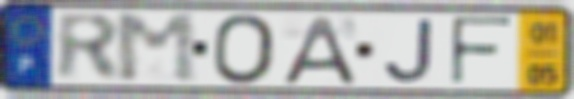A: (278, 14, 360, 86)
F: (448, 14, 516, 89)
J: (381, 17, 437, 85)
M: (111, 11, 201, 85)
O: (210, 11, 279, 87)
R: (54, 11, 124, 84)
